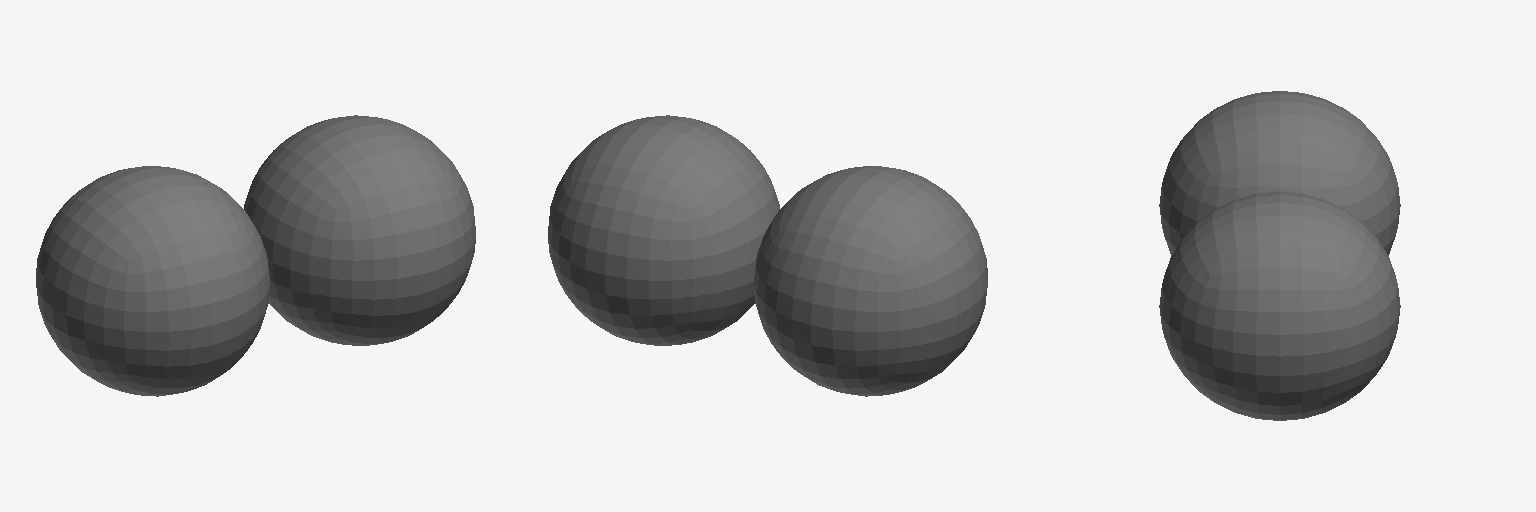
File: LowPoly_Aristocrata_Olhos.obj
3 renders of one model, left to right at view 1: azimuth 30°, elevation 25°; view 2: azimuth 150°, elevation 25°; view 3: azimuth 270°, elevation 25°, orthographic.
Parts seen in each view (by area): view 1: LowPoly_Aristocrata_Olhos; view 2: LowPoly_Aristocrata_Olhos; view 3: LowPoly_Aristocrata_Olhos.
Part boxes in pixels (x1,y1,x2,y2): LowPoly_Aristocrata_Olhos: (36, 115, 475, 396); LowPoly_Aristocrata_Olhos: (548, 115, 987, 396); LowPoly_Aristocrata_Olhos: (1159, 91, 1400, 420).
Size of the model in its own units: 11.54 by 5.62 by 5.91.